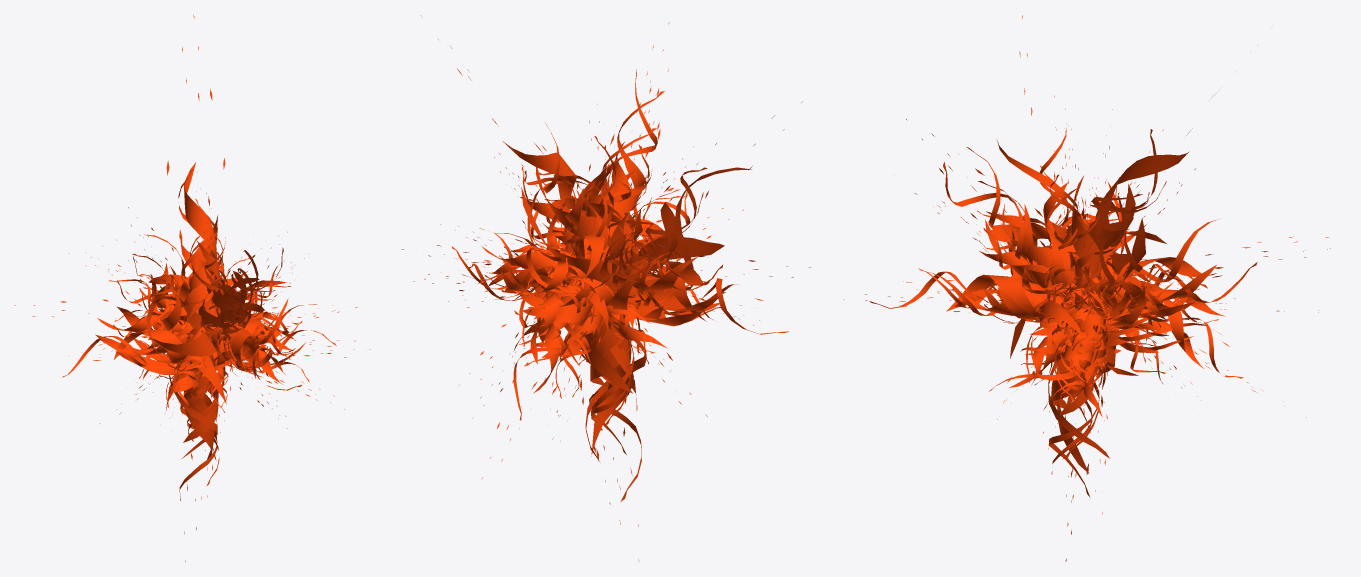
File: fireball_14.obj
3 views of the same model, side by side, from view 1: azimuth 30°, elevation 25°; view 2: azimuth 150°, elevation 25°; view 3: azimuth 270°, elevation 25° (orthographic). The views are drawn at different scales.
Parts seen in each view (by area): view 1: Fireball; view 2: Fireball; view 3: Fireball.
Boxes of the visible parts, x1,y1,x2,y2 form: Fireball: (14, 14, 370, 561); Fireball: (401, 15, 810, 561); Fireball: (843, 15, 1330, 561).
Size of the model in its own units: 1.71 by 2.28 by 1.76.
